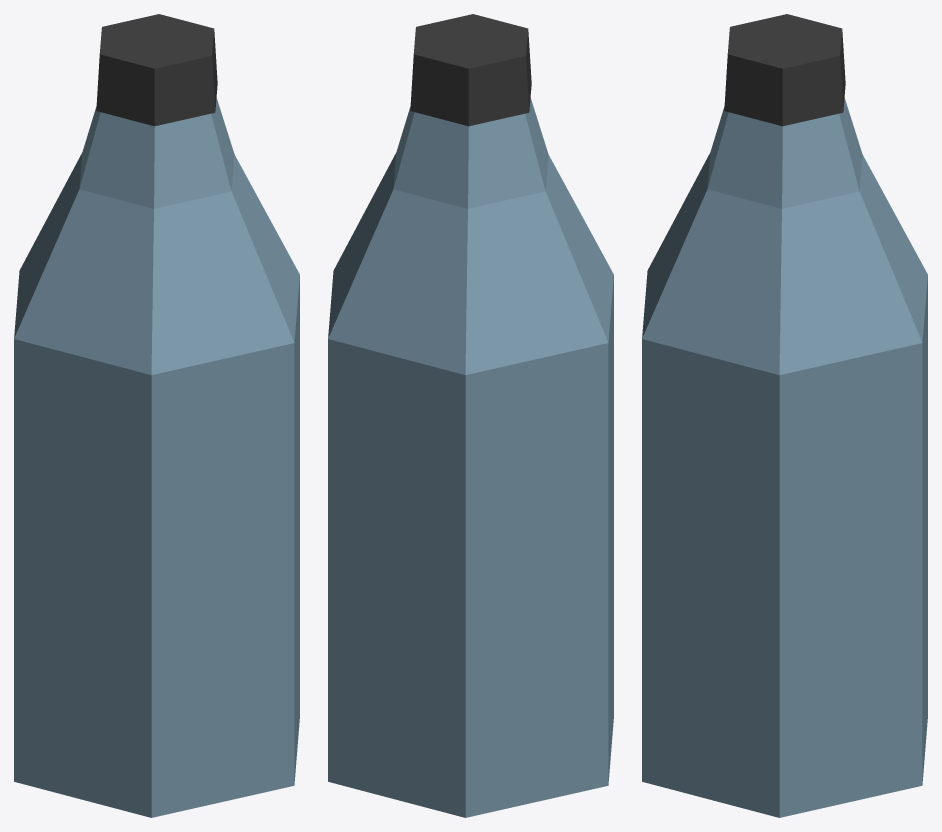
Rendered from Bottle_4.fbx.
3 renders of one model, left to right at view 1: azimuth 30°, elevation 25°; view 2: azimuth 150°, elevation 25°; view 3: azimuth 270°, elevation 25°, orthographic.
Visible parts, largest first — view 1: Bottle_4; view 2: Bottle_4; view 3: Bottle_4.
Part boxes in pixels (left/top/right/bottom): Bottle_4: left=14, top=14, right=299, bottom=817; Bottle_4: left=328, top=14, right=613, bottom=817; Bottle_4: left=642, top=14, right=927, bottom=817.
Size of the model in its own units: 7.29 by 6.44 by 17.6.
